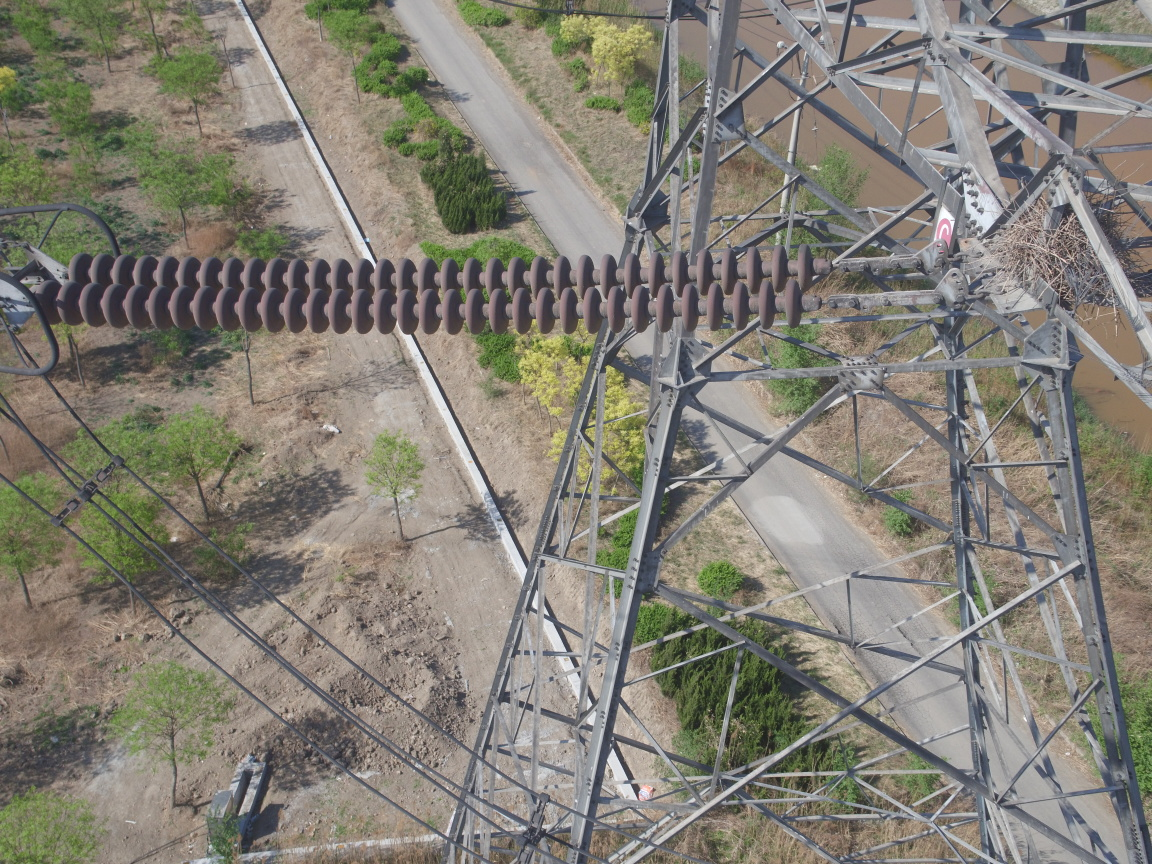insulator: (15, 241, 870, 337)
